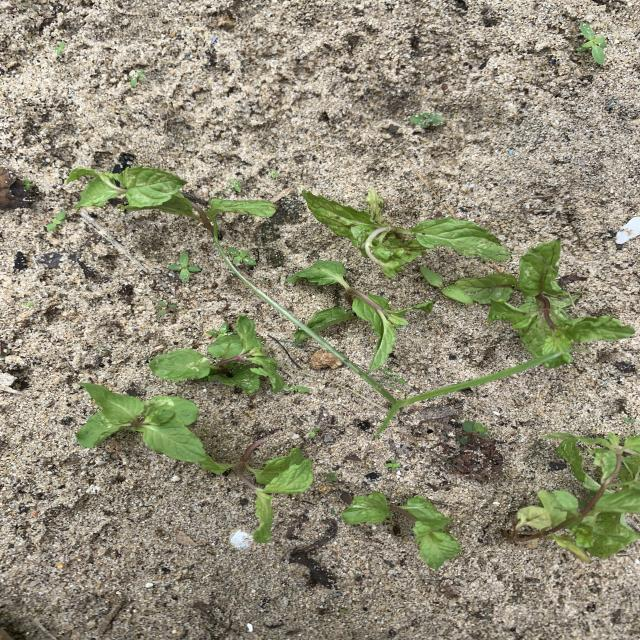crop: (456, 241, 634, 368), (306, 188, 511, 275), (285, 260, 433, 371), (516, 433, 639, 562), (66, 167, 275, 229), (201, 441, 313, 543), (76, 383, 209, 466), (151, 315, 283, 393), (343, 492, 459, 567)
weed: (213, 237, 560, 437), (420, 266, 473, 304), (577, 23, 607, 64), (171, 252, 199, 282), (460, 421, 489, 445), (227, 247, 257, 266), (410, 112, 444, 128), (47, 210, 66, 231), (157, 300, 180, 315), (128, 68, 144, 87), (21, 178, 36, 191), (385, 460, 401, 470), (322, 472, 338, 482), (309, 428, 318, 438)
